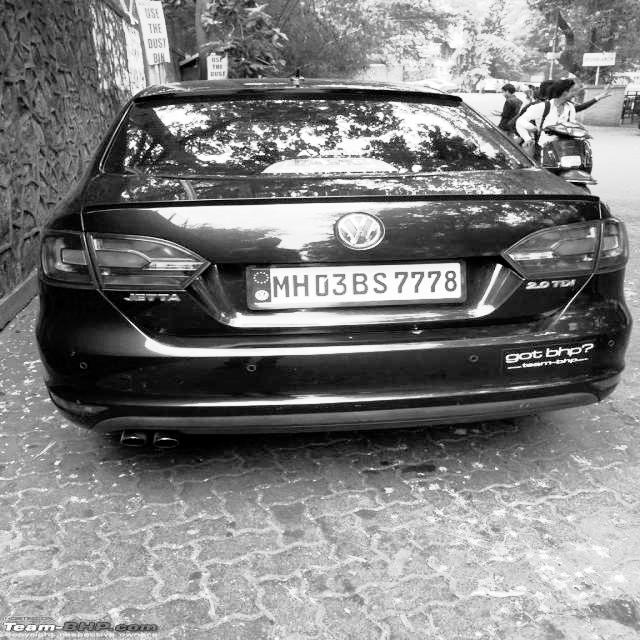Car: (60, 89, 622, 422)
